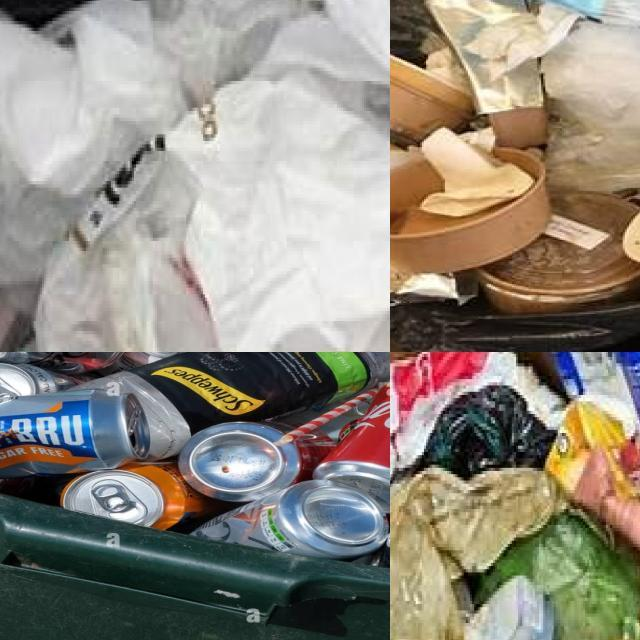Garbage: (0, 0, 390, 352), (0, 352, 390, 567), (390, 0, 640, 318), (390, 352, 640, 640)
Plastic: (542, 20, 640, 191)
Plastic_Bag: (390, 468, 565, 640), (390, 352, 563, 482), (472, 513, 640, 640), (421, 384, 555, 479), (465, 575, 552, 640)
Plastic_Straw: (276, 389, 380, 445)
Plastic_bottle: (72, 352, 390, 461)
can: (192, 480, 387, 559), (0, 390, 149, 478), (180, 422, 334, 502), (61, 463, 238, 530), (61, 463, 230, 528), (314, 382, 390, 513), (0, 363, 78, 395)
